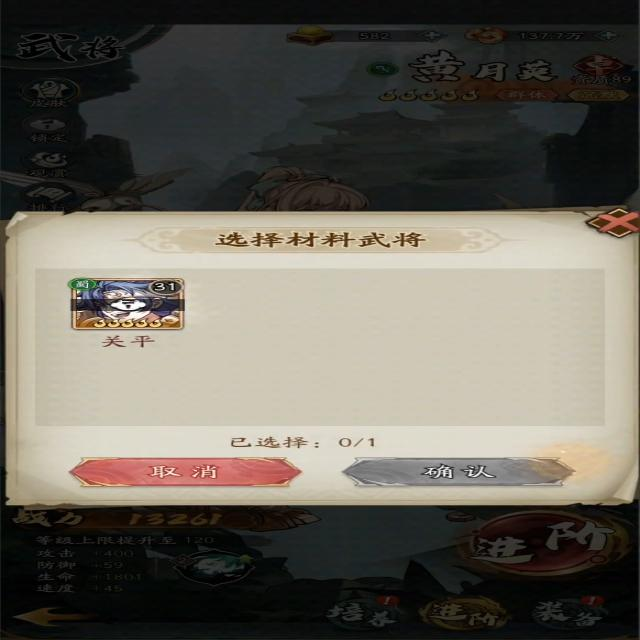operation-close: (581, 208, 638, 240)
operation-confirm-off: (344, 456, 560, 489)
